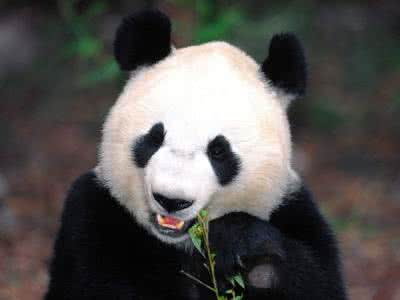panda: (39, 7, 347, 300)
